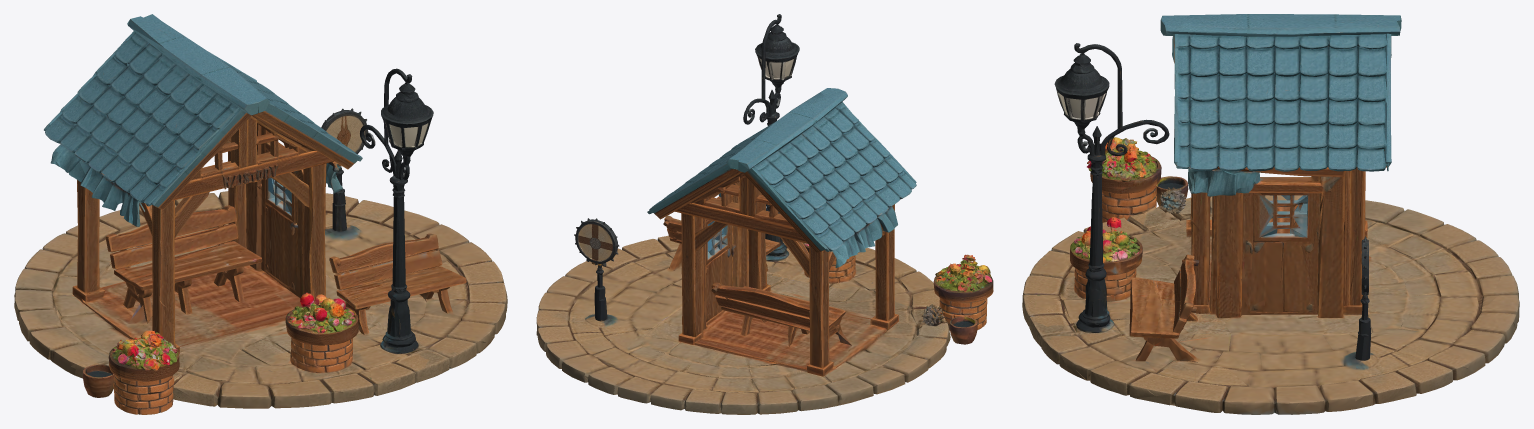
The model's file is a6_summit_square.glb.
3 renders of one model, left to right at view 1: azimuth 30°, elevation 25°; view 2: azimuth 150°, elevation 25°; view 3: azimuth 270°, elevation 25°, orthographic. The views are drawn at different scales.
Size of the model in its own units: 1.9 by 1.2 by 1.84.
1 material, 1 textured.
